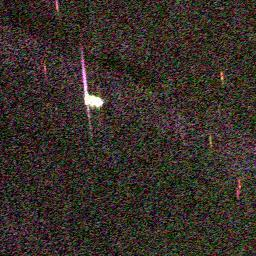Ship: (77, 87, 108, 111), (233, 179, 244, 199), (218, 69, 229, 85), (206, 133, 214, 150)
